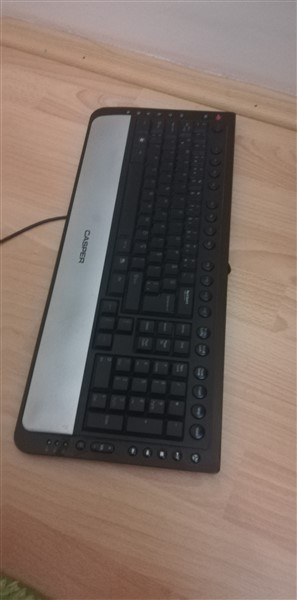klavye: (23, 106, 242, 475)
